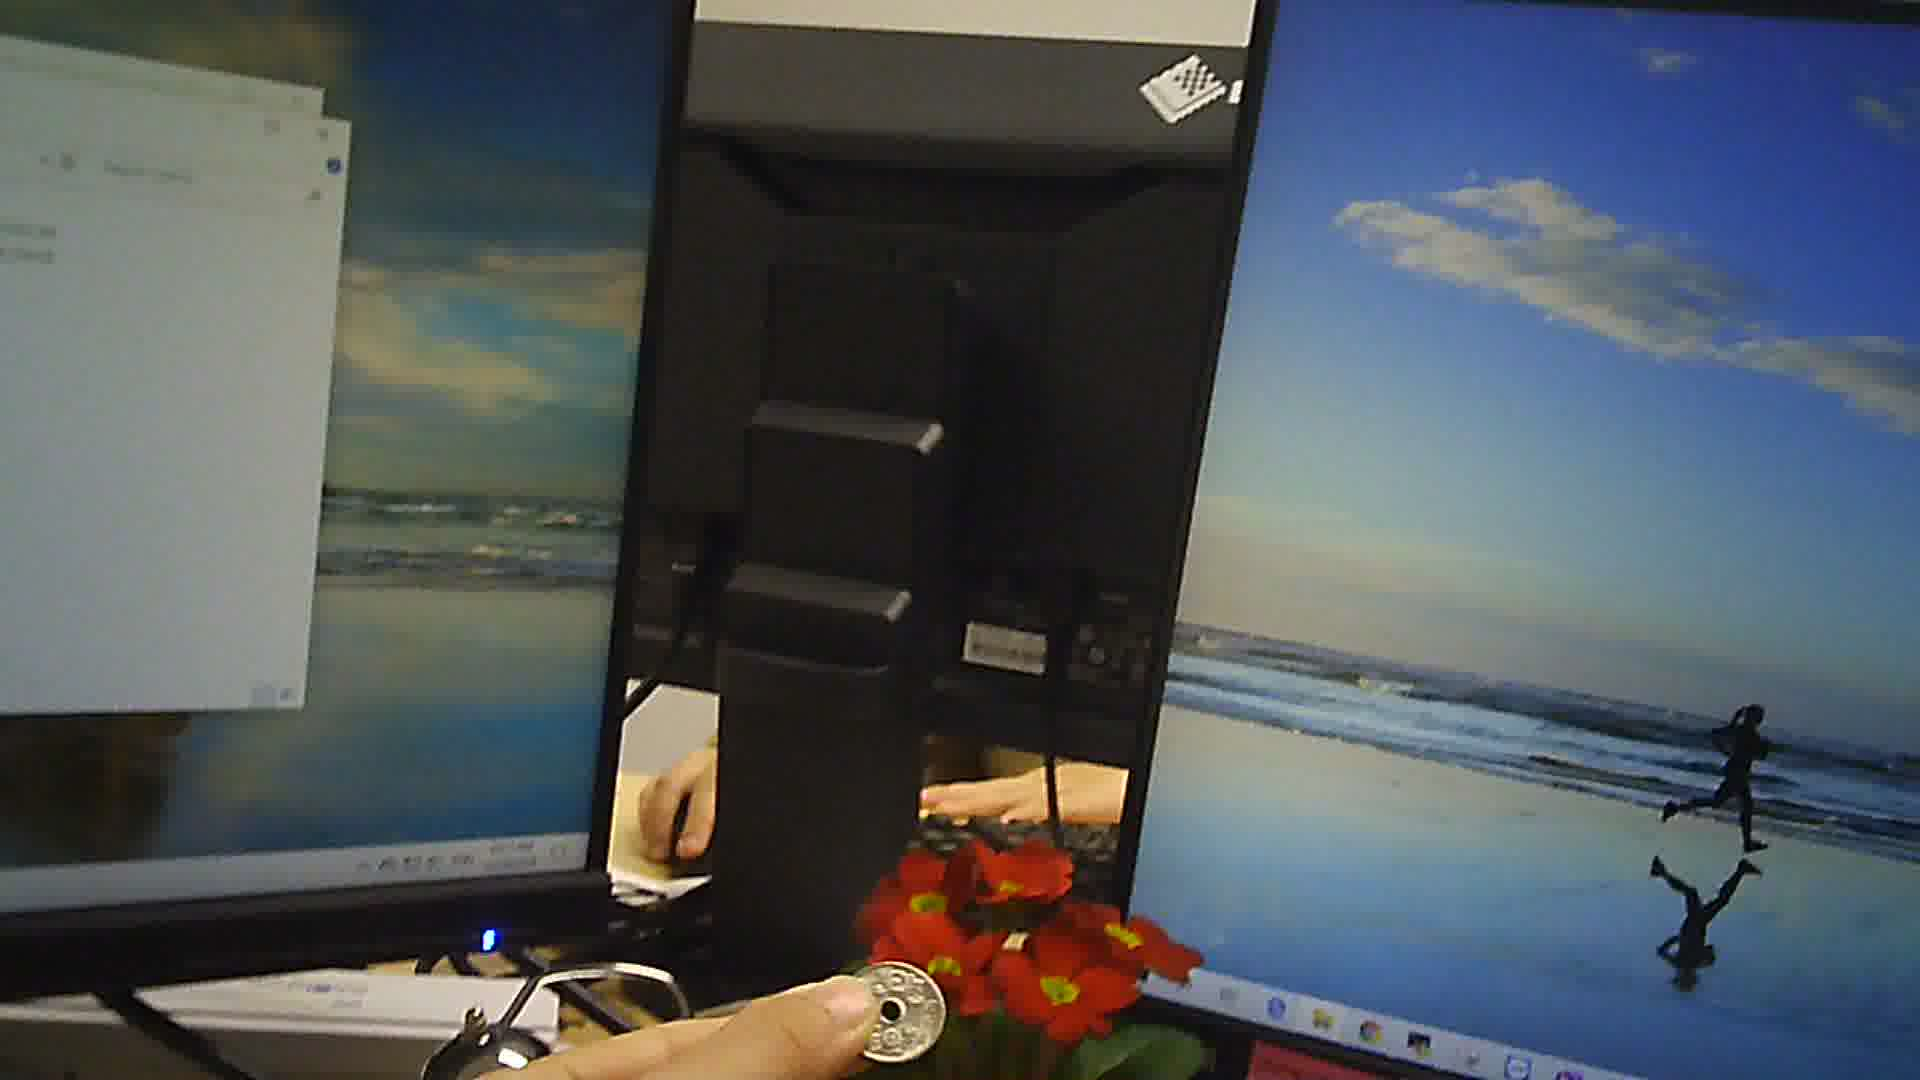50 Yen: (837, 955, 944, 1069)
